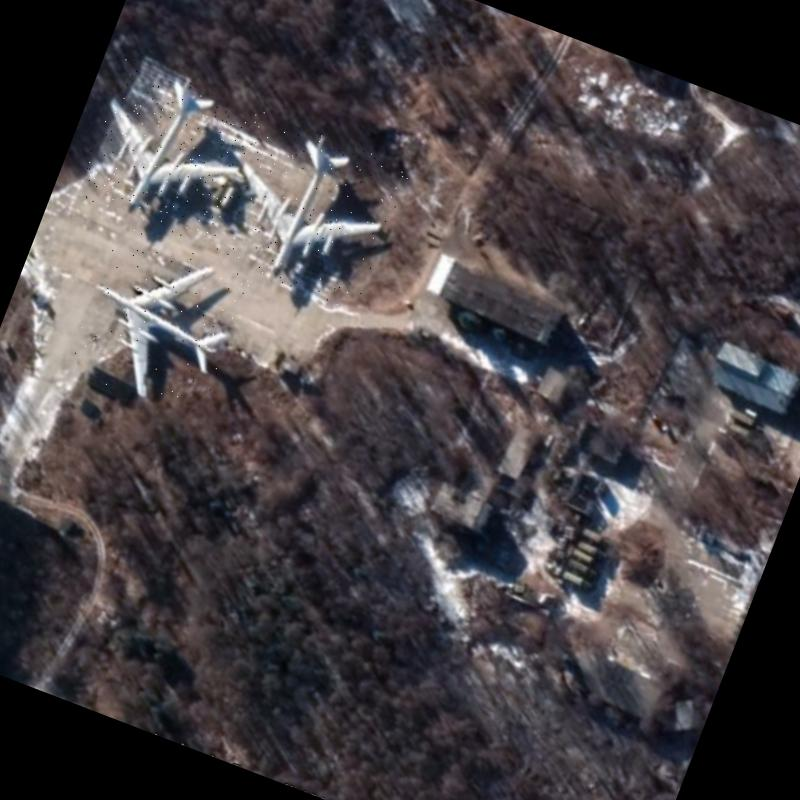A17: (206, 108, 412, 312), (59, 222, 256, 423), (73, 57, 266, 248)
